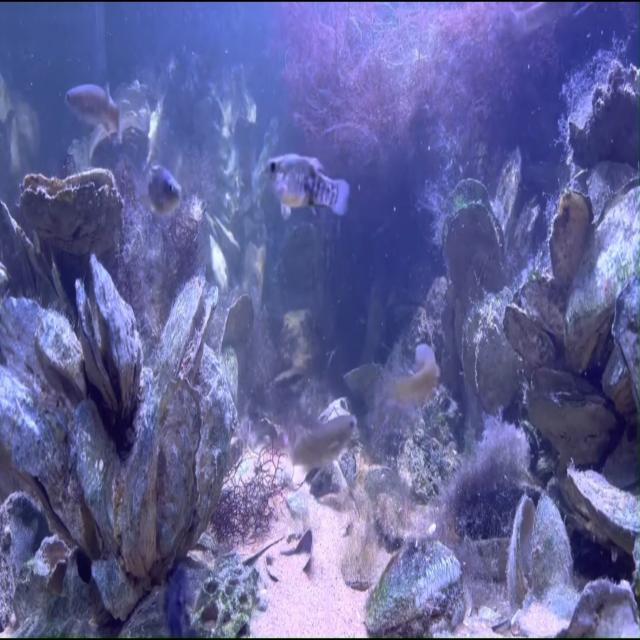Oyster-Closed: (0, 364, 69, 527), (185, 344, 238, 549), (366, 538, 465, 638), (528, 367, 616, 469), (21, 169, 124, 256), (0, 298, 86, 400), (119, 366, 159, 579), (156, 382, 200, 560), (569, 60, 639, 167), (74, 400, 120, 553), (210, 293, 272, 404), (0, 491, 49, 630), (568, 462, 640, 553), (560, 578, 640, 638)
Oyster-Open: (75, 256, 142, 418), (14, 536, 114, 638), (442, 178, 504, 307), (508, 493, 572, 608), (156, 276, 219, 390), (90, 80, 151, 171)
